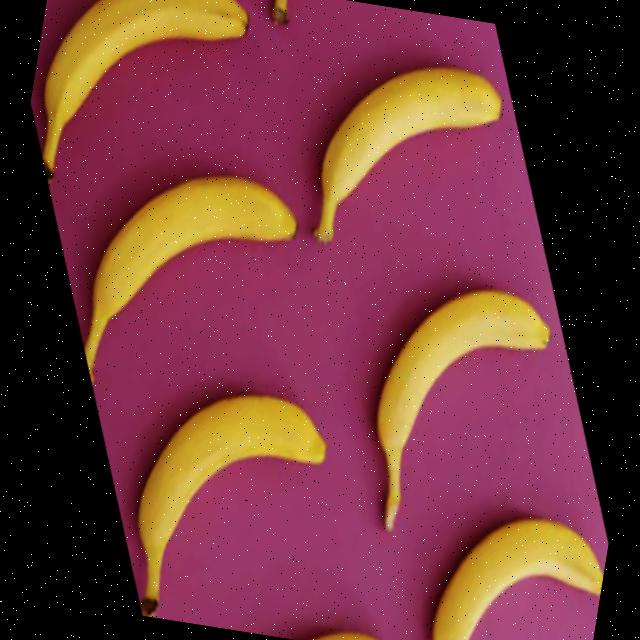banana: (102, 315, 359, 640), (59, 90, 318, 406), (12, 0, 274, 255), (338, 262, 558, 549), (292, 43, 499, 280), (405, 477, 614, 640)
